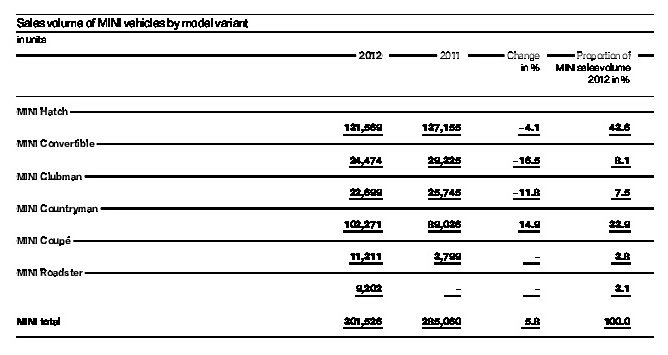table: (0, 0, 668, 355)
